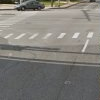crosswalk: (3, 31, 94, 40)
